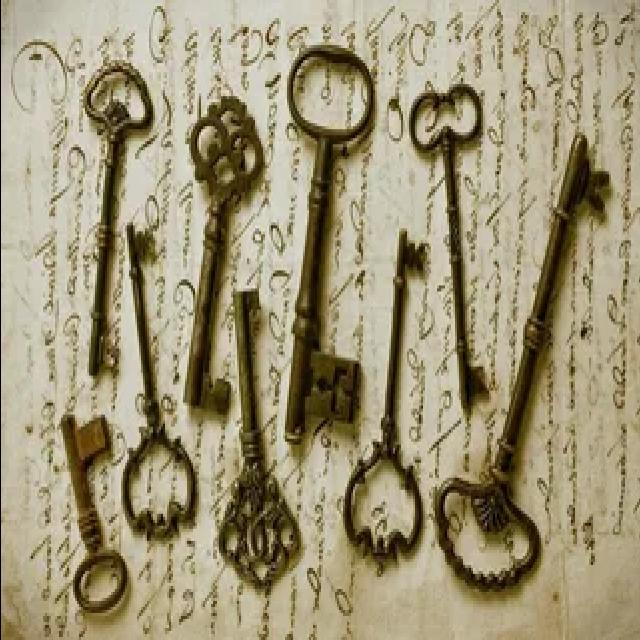key: (406, 85, 500, 417), (60, 52, 154, 374)
